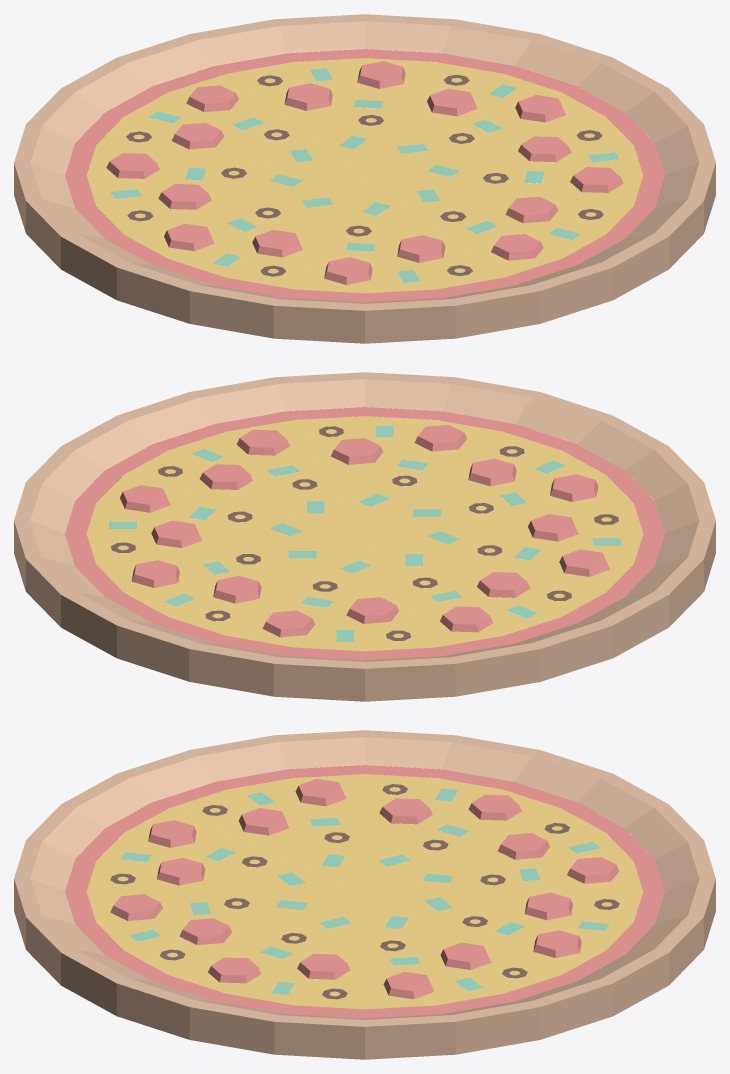
The model's file is pizza.glb.
3 views of the same model, one above another, from view 1: azimuth 30°, elevation 25°; view 2: azimuth 150°, elevation 25°; view 3: azimuth 270°, elevation 25° (orthographic).
Visible parts, largest first — view 1: slice2, slice3, slice1, slice6, slice7, slice5, slice4, slice0; view 2: slice5, slice4, slice6, slice1, slice0, slice2, slice3, slice7; view 3: slice0, slice7, slice4, slice3, slice1, slice6, slice2, slice5.
Part boxes in pixels (bbox=[...]): slice2: bbox=[274, 176, 540, 343]; slice3: bbox=[61, 176, 364, 338]; slice1: bbox=[365, 176, 703, 323]; slice6: bbox=[190, 14, 455, 175]; slice7: bbox=[365, 19, 668, 175]; slice5: bbox=[26, 34, 364, 178]; slice4: bbox=[14, 124, 364, 268]; slice0: bbox=[365, 88, 715, 232]; slice5: bbox=[189, 534, 455, 701]; slice4: bbox=[365, 534, 668, 696]; slice6: bbox=[26, 534, 363, 681]; slice1: bbox=[274, 372, 539, 533]; slice0: bbox=[61, 377, 364, 533]; slice2: bbox=[366, 392, 703, 533]; slice3: bbox=[365, 482, 715, 626]; slice7: bbox=[14, 446, 364, 591]; slice0: bbox=[116, 892, 364, 1059]; slice7: bbox=[365, 892, 612, 1059]; slice4: bbox=[365, 730, 612, 891]; slice3: bbox=[117, 730, 364, 891]; slice1: bbox=[14, 878, 364, 1015]; slice6: bbox=[366, 878, 715, 1015]; slice2: bbox=[14, 774, 363, 908]; slice5: bbox=[365, 773, 715, 910].
Size of the model in its own units: 0.8418 by 0.0435 by 0.8418.
